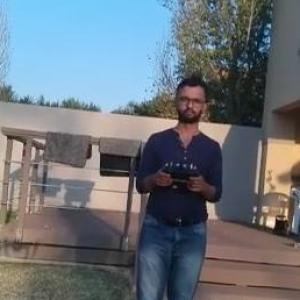follow: (127, 71, 223, 299)
